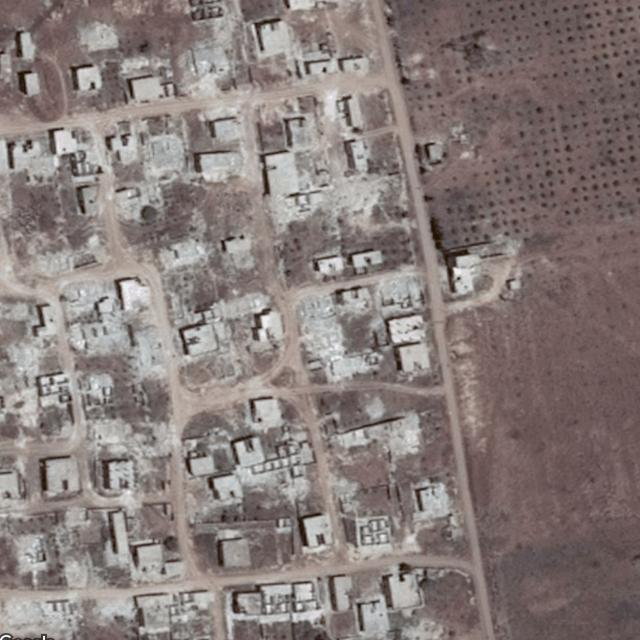damaged_building: (92, 417, 172, 511), (66, 306, 168, 379), (297, 295, 376, 381), (115, 130, 187, 220), (0, 596, 138, 637), (266, 180, 350, 242), (0, 335, 56, 427), (365, 411, 425, 468), (10, 533, 46, 571)
